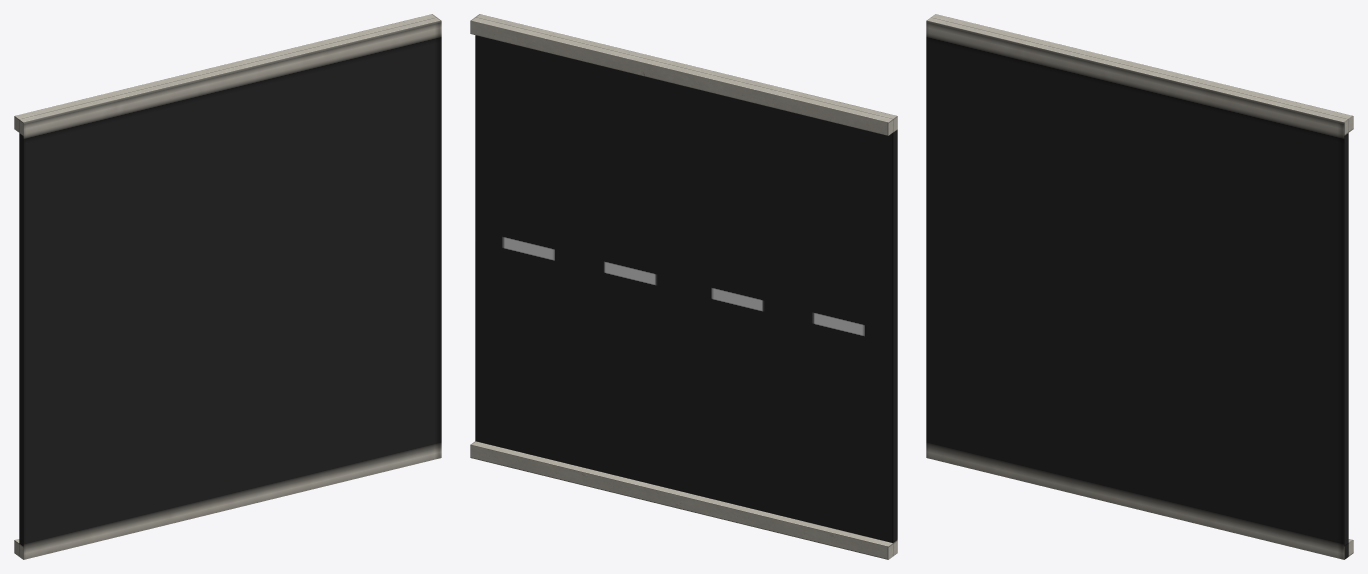
Rendered from asphalt-road-block-subwalk-4m.obj.
The picture shows the model from 3 angles, left to right: view 1: azimuth 30°, elevation 25°; view 2: azimuth 150°, elevation 25°; view 3: azimuth 330°, elevation 25°; orthographic projection.
Visible parts, largest first — view 1: asphalt-road-block-subwalk-4m_Plane.037; view 2: asphalt-road-block-subwalk-4m_Plane.037; view 3: asphalt-road-block-subwalk-4m_Plane.037.
Boxes of the visible parts, x1,y1,x2,y2 form: asphalt-road-block-subwalk-4m_Plane.037: (14, 14, 441, 559); asphalt-road-block-subwalk-4m_Plane.037: (470, 14, 897, 559); asphalt-road-block-subwalk-4m_Plane.037: (926, 14, 1353, 559).
Size of the model in its own units: 4 by 4 by 0.15.
